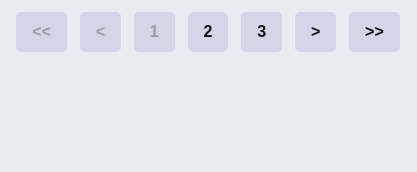
Test: Pagination Component › disables next buttons on the last page
Click the button ">>" at (374, 32), box [349, 12, 400, 52]
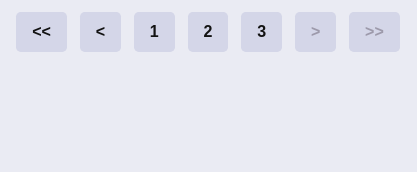
Expected: the button ">>" is disabled, [349, 12, 400, 52]
Expected: the button ">" is disabled, [295, 12, 336, 52]
